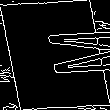M_W: (3, 30, 107, 80)
